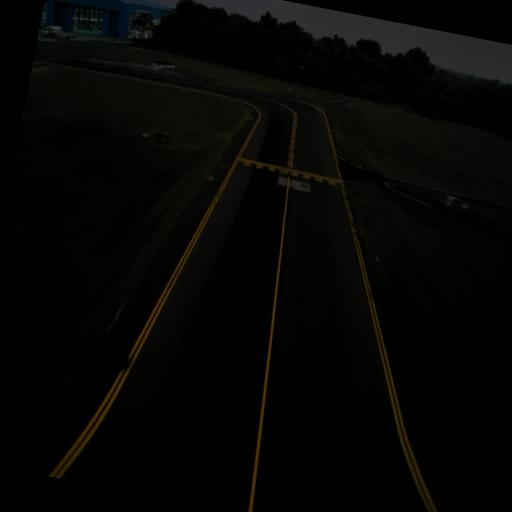on: (210, 171, 216, 180), (249, 114, 252, 120), (336, 134, 340, 138)
